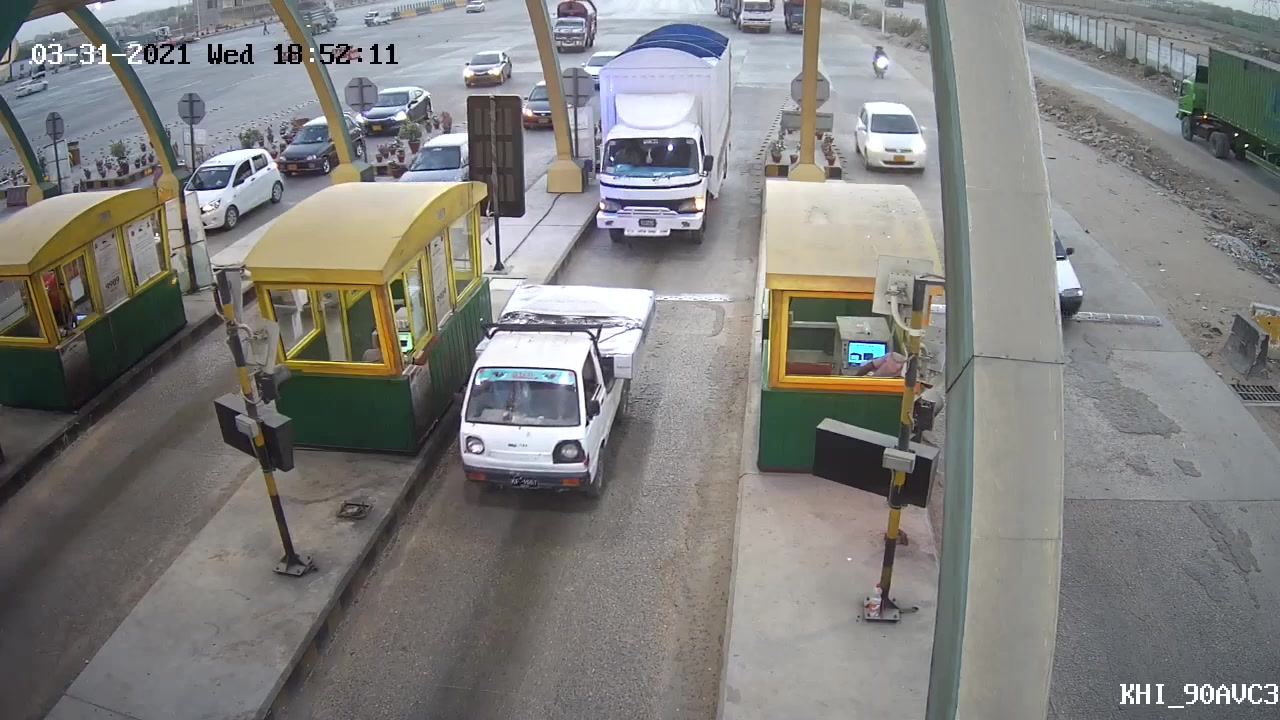F2: (452, 267, 636, 504)
F5: (588, 47, 728, 249)
